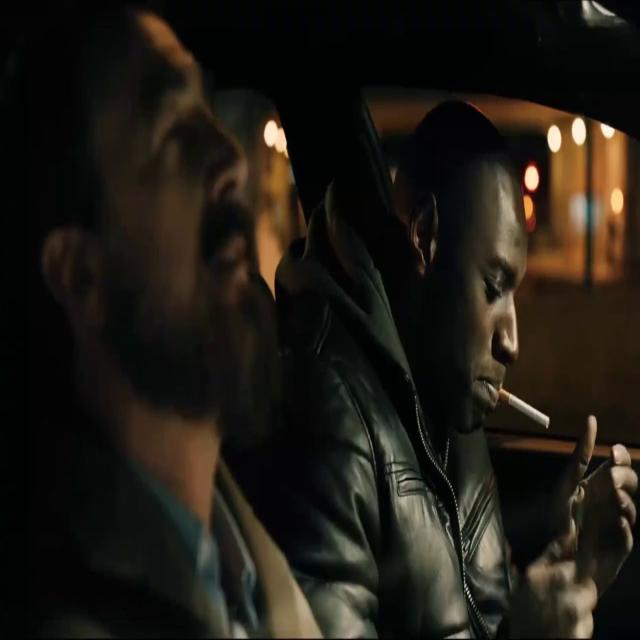Smooking: (496, 378, 554, 438)
